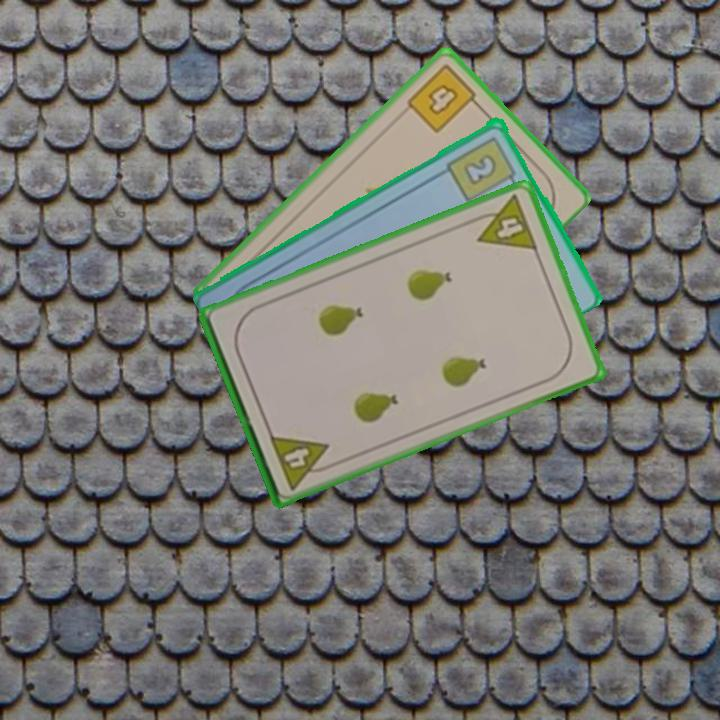2b: (443, 132, 521, 204)
4b: (403, 60, 485, 136)
4p: (467, 191, 541, 254), (266, 430, 338, 492)
